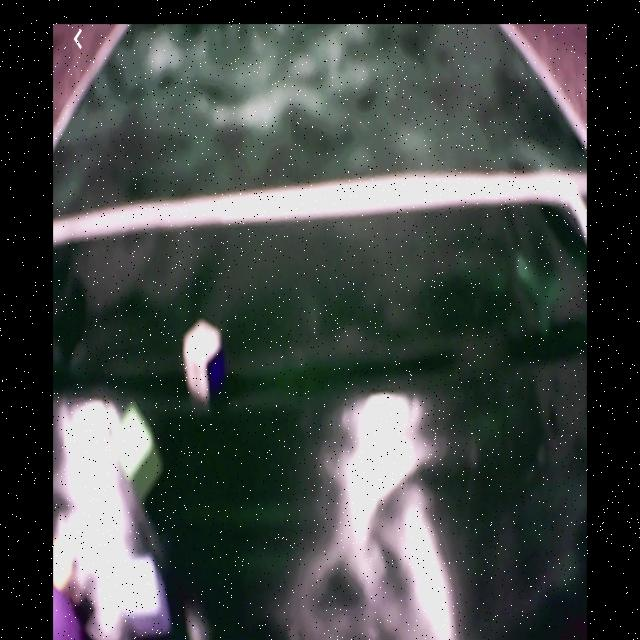ball: (54, 585, 80, 640)
